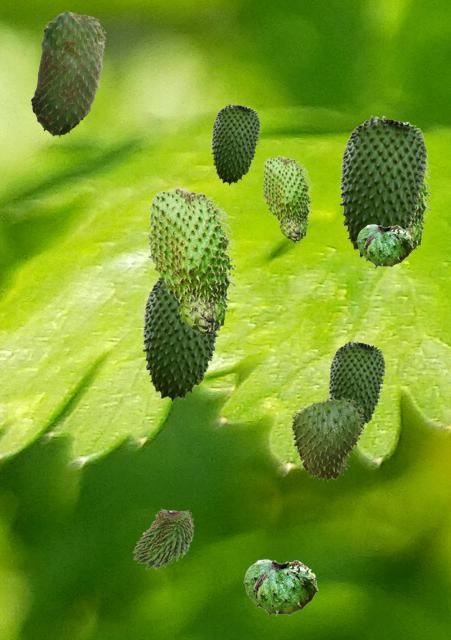guyabano: (146, 186, 236, 337), (339, 115, 426, 258), (30, 10, 105, 136), (142, 280, 220, 401), (291, 396, 365, 481), (328, 340, 384, 429), (261, 155, 312, 242), (243, 559, 317, 617), (211, 103, 259, 184), (132, 507, 193, 568), (356, 224, 412, 268), (408, 155, 431, 253)
